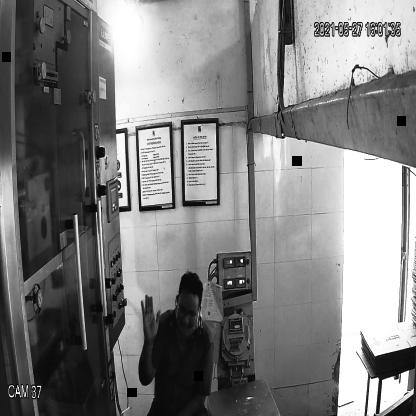goggles: (175, 298, 201, 328)
